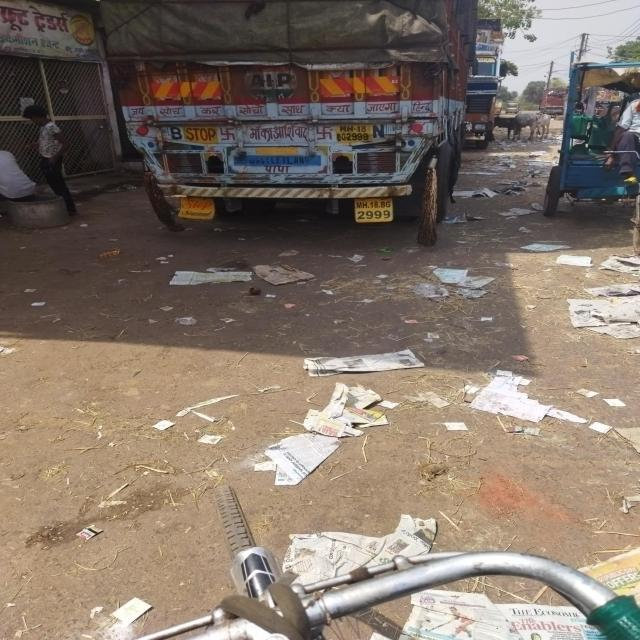plate: (352, 196, 394, 223)
